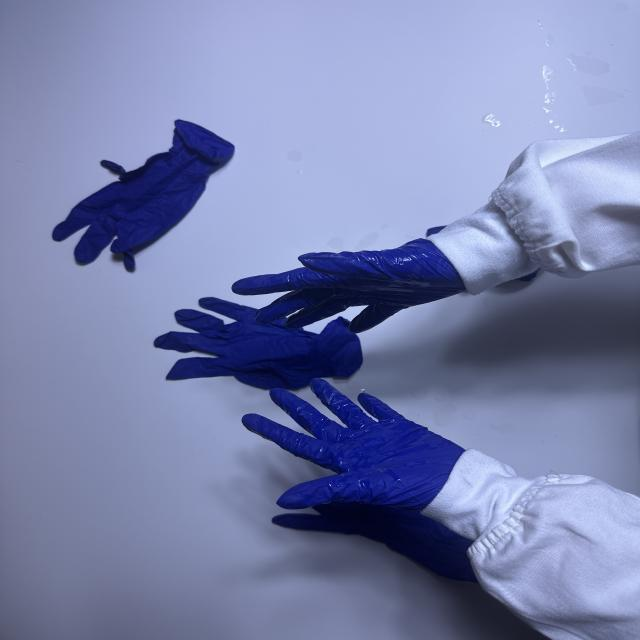gloves_contaminated: (242, 378, 464, 511), (232, 236, 467, 333)
